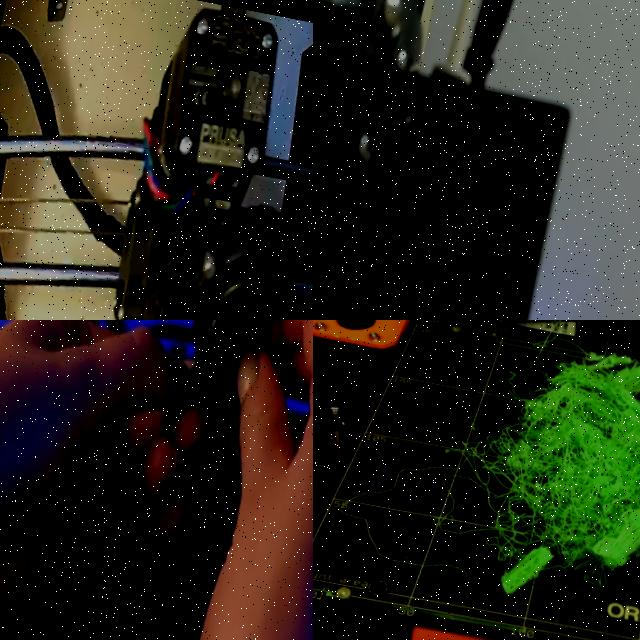spaghetti: (441, 331, 640, 609)
